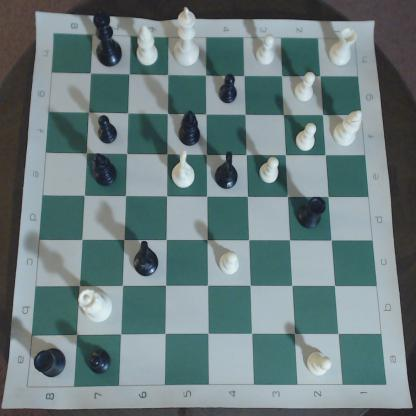black-bishop: (179, 109, 206, 151), (93, 153, 121, 190)
black-king: (92, 8, 125, 71)
black-knight: (132, 239, 160, 280), (217, 149, 240, 192)
black-pawn: (217, 67, 240, 106), (87, 349, 114, 377), (97, 117, 120, 147)
black-rook: (299, 197, 331, 232), (35, 346, 66, 378)
white-bishop: (332, 108, 366, 150), (137, 24, 161, 71)
white-king: (174, 6, 202, 69)
white-knight: (172, 152, 198, 191)
white-pawn: (292, 72, 321, 105), (256, 34, 281, 68), (307, 348, 334, 379), (295, 121, 322, 151), (259, 156, 283, 186), (218, 251, 243, 277)
white-queen: (79, 286, 113, 324)
white-rook: (331, 26, 361, 72)
